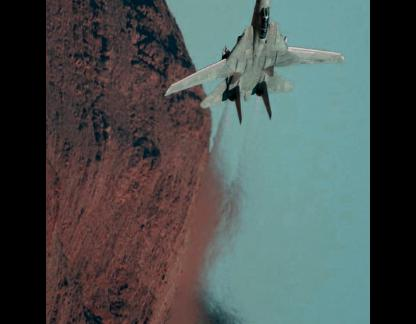EF2000: (164, 0, 346, 124)
